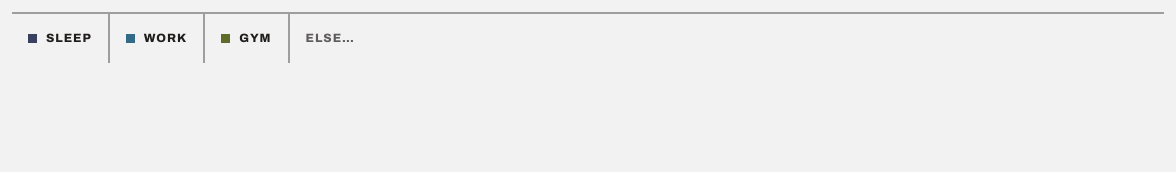
Test: ControlBar › custom away (Else…) › opens the custom area with the input when Else… is clicked
Click the button with test id "control-away-more": click(330, 38) [290, 14, 1164, 63]
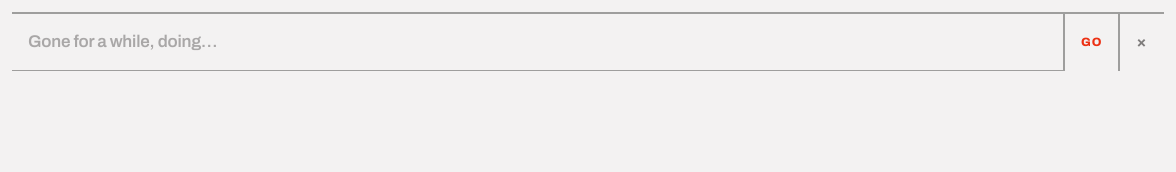
Result: the element with test id "control-custom-area" is shown at [12, 14, 1164, 71]
Result: the button with test id "control-sleep" is gone
